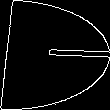L_W: (5, 38, 105, 72)
